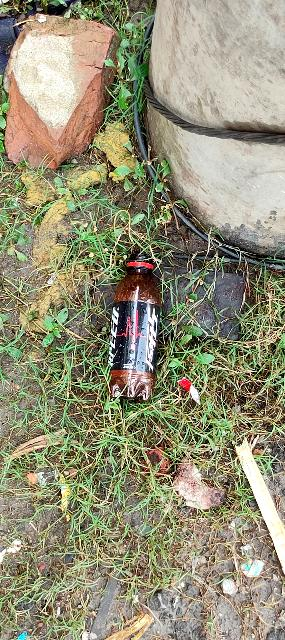bottle: (108, 240, 163, 401), (151, 312, 159, 314)
